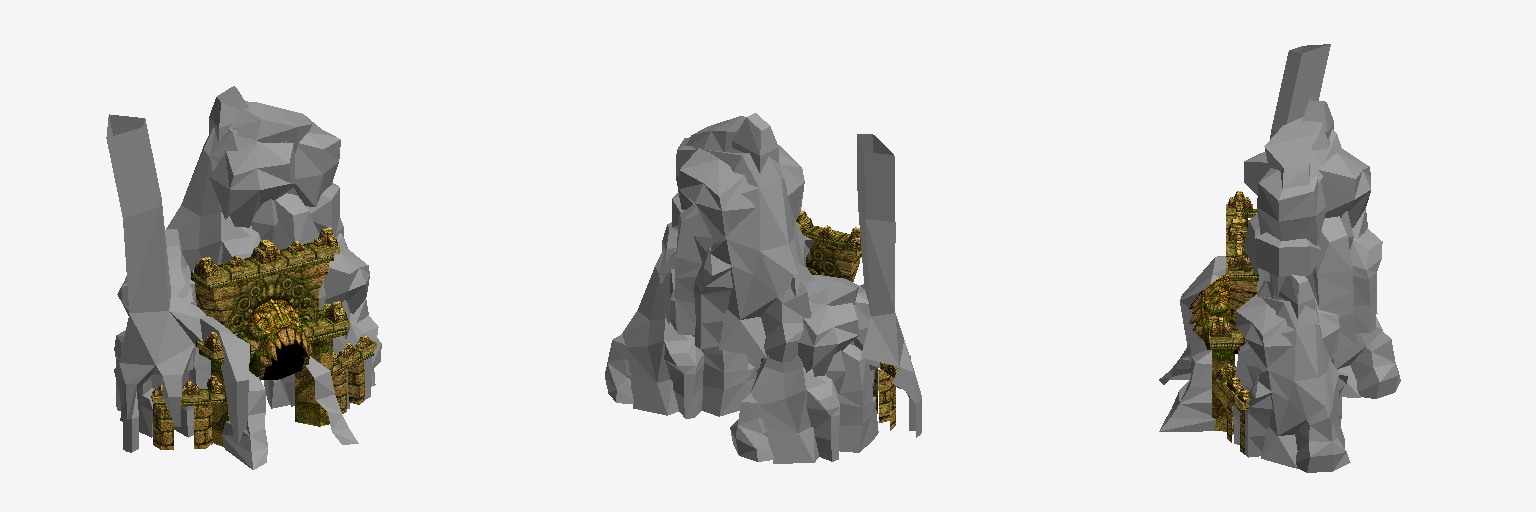
The picture shows the model from 3 angles: view 1: azimuth 30°, elevation 25°; view 2: azimuth 150°, elevation 25°; view 3: azimuth 270°, elevation 25°; orthographic projection.
Parts seen in each view (by area): view 1: Object218-Pivot, Object218-Pivot.001; view 2: Object218-Pivot, Object218-Pivot.001; view 3: Object218-Pivot, Object218-Pivot.001.
Boxes of the visible parts, <box> form: Object218-Pivot: <box>106,86,381,469</box>; Object218-Pivot.001: <box>151,227,376,449</box>; Object218-Pivot: <box>605,113,921,463</box>; Object218-Pivot.001: <box>758,210,898,430</box>; Object218-Pivot: <box>1159,44,1400,472</box>; Object218-Pivot.001: <box>1189,191,1258,454</box>.
Bounding box in the file's own units: 143 × 150 × 106.
2 materials, 1 textured.